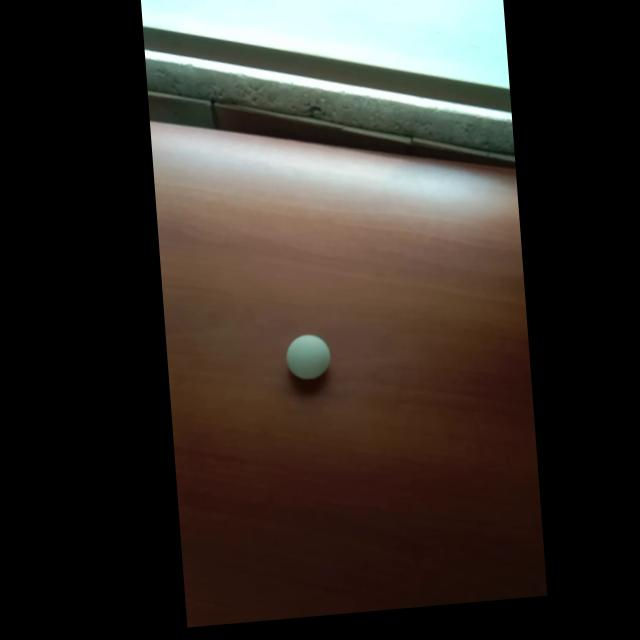white ball: (285, 332, 332, 382)
